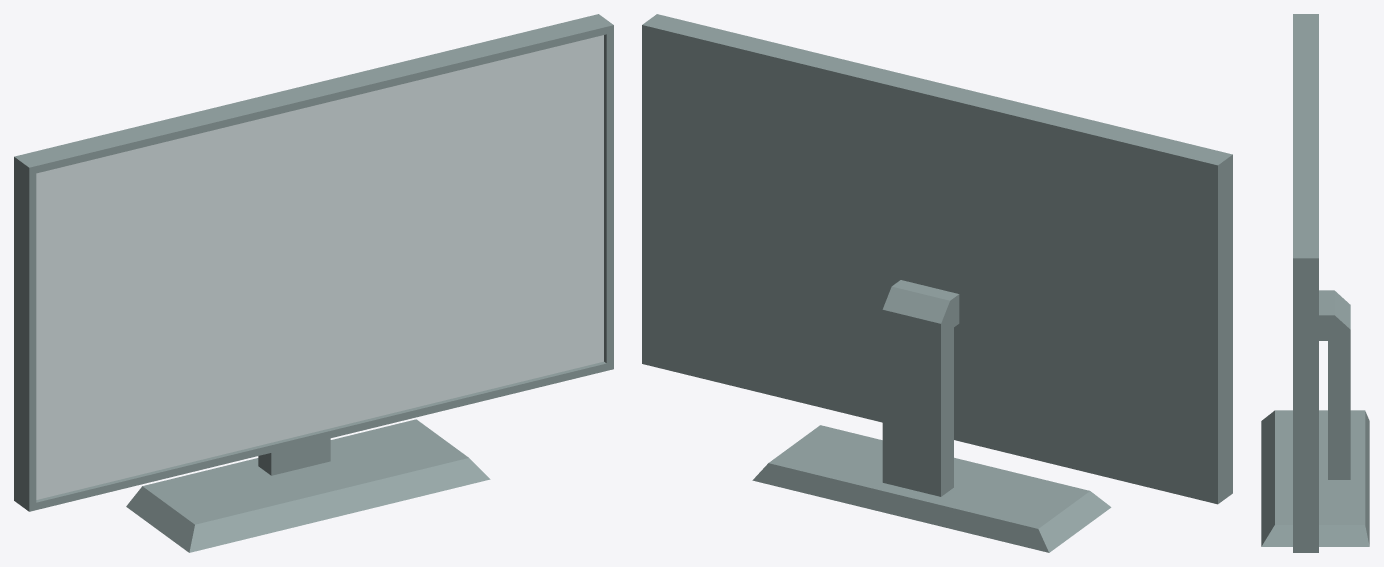
The model's file is televisionModern.glb.
3 views of the same model, side by side, from view 1: azimuth 30°, elevation 25°; view 2: azimuth 150°, elevation 25°; view 3: azimuth 270°, elevation 25° (orthographic). The views are drawn at different scales.
Parts seen in each view (by area): view 1: televisionModern(Clone); view 2: televisionModern(Clone); view 3: televisionModern(Clone).
Boxes of the visible parts, x1=… form: televisionModern(Clone): x1=14, y1=14, x2=613, y2=552; televisionModern(Clone): x1=642, y1=14, x2=1232, y2=552; televisionModern(Clone): x1=1261, y1=14, x2=1369, y2=552.
Bounding box in the file's own units: 1.39 × 0.9231 × 0.2607.
2 materials, 2 textured.
